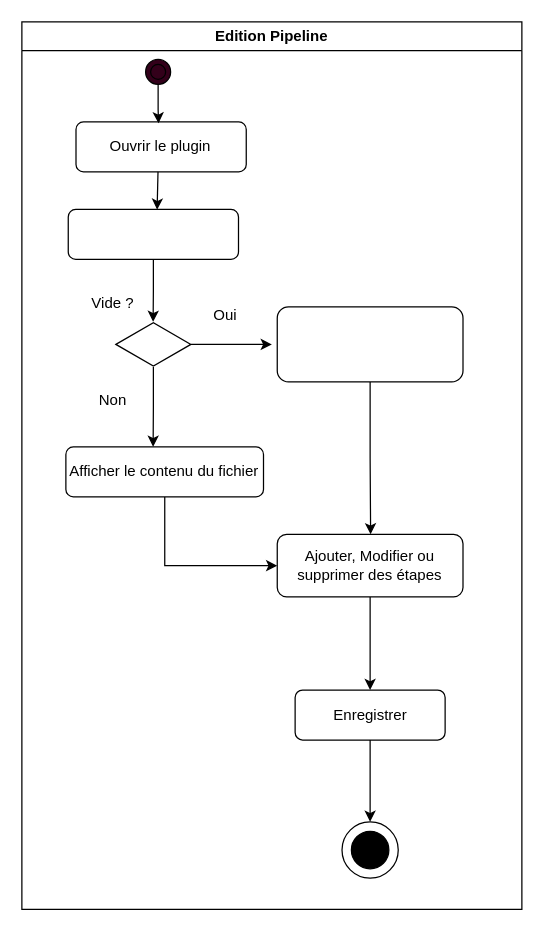
Some shapes in this 544 by 931 pixel diagram are drawn without their labels. Each missing label, with the centre of its shape:
Charger un fichier json: [152,233]
Renseigner l’entête du fichier: [369,344]
